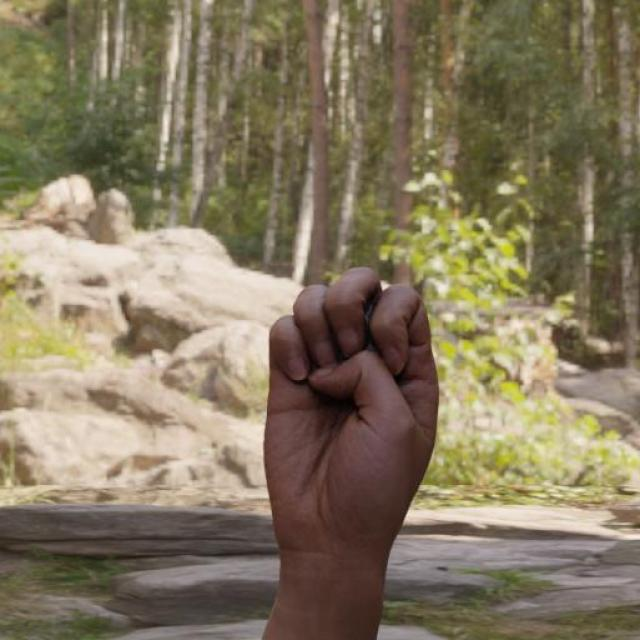E: (258, 264, 447, 565)
